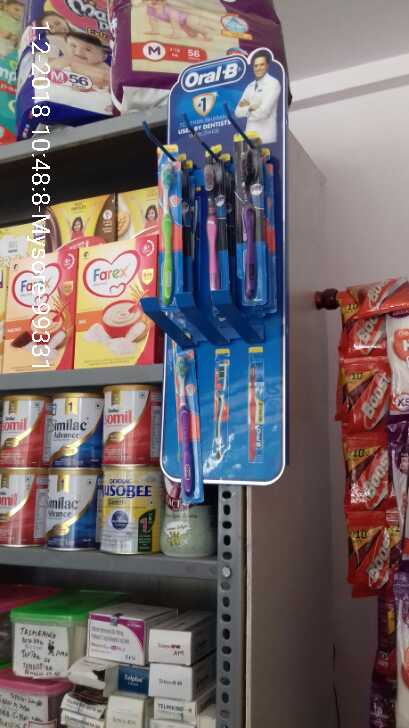oralb: (231, 152, 275, 306), (186, 158, 230, 304), (151, 156, 178, 295)
